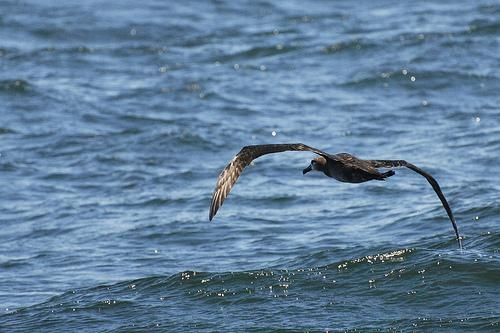bird: (202, 141, 464, 250)
